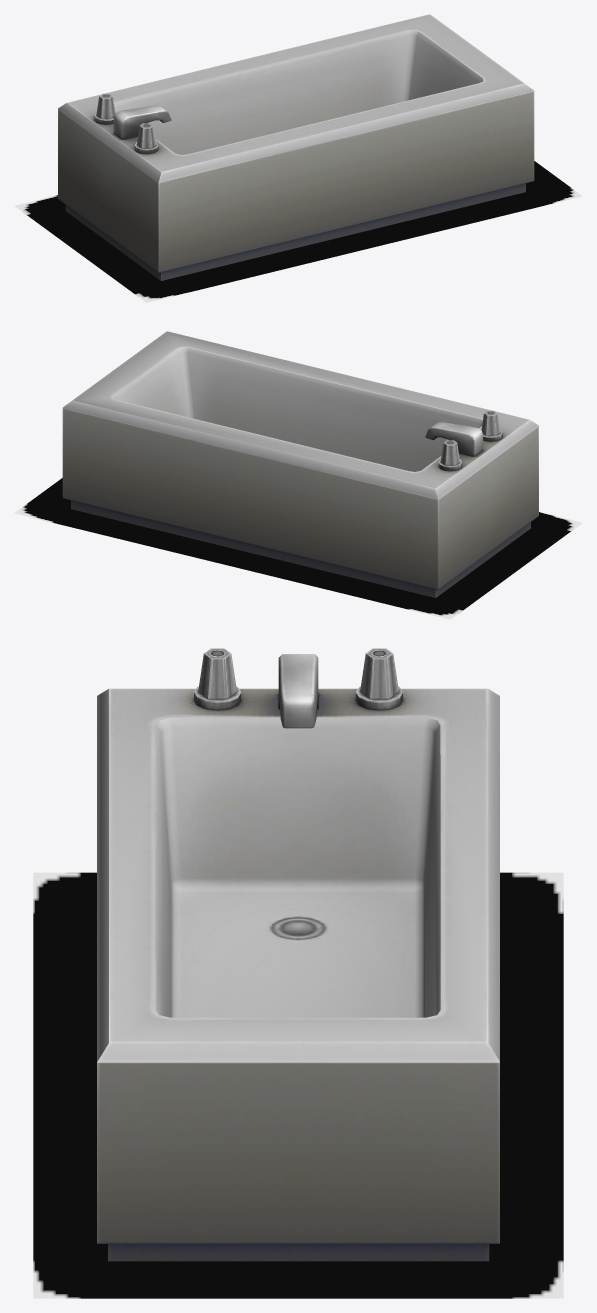
Rendered from jj_ty_bathtubs07_01.FBX.
The picture shows the model from 3 angles, top to bottom: view 1: azimuth 30°, elevation 25°; view 2: azimuth 150°, elevation 25°; view 3: azimuth 270°, elevation 25°; orthographic projection. The views are drawn at different scales.
Parts seen in each view (by area): view 1: jj_ty_bathtubs07_01, shadow; view 2: jj_ty_bathtubs07_01, shadow; view 3: jj_ty_bathtubs07_01, shadow.
Part boxes in pixels (x1,y1,x2,y2): jj_ty_bathtubs07_01: (58,14,534,280); shadow: (14,161,582,302); jj_ty_bathtubs07_01: (62,331,538,597); shadow: (14,478,582,619); jj_ty_bathtubs07_01: (97,648,499,1261); shadow: (33,872,563,1298).
Size of the model in its own units: 105 by 31.58 by 55.21.
2 materials, 2 textured.
